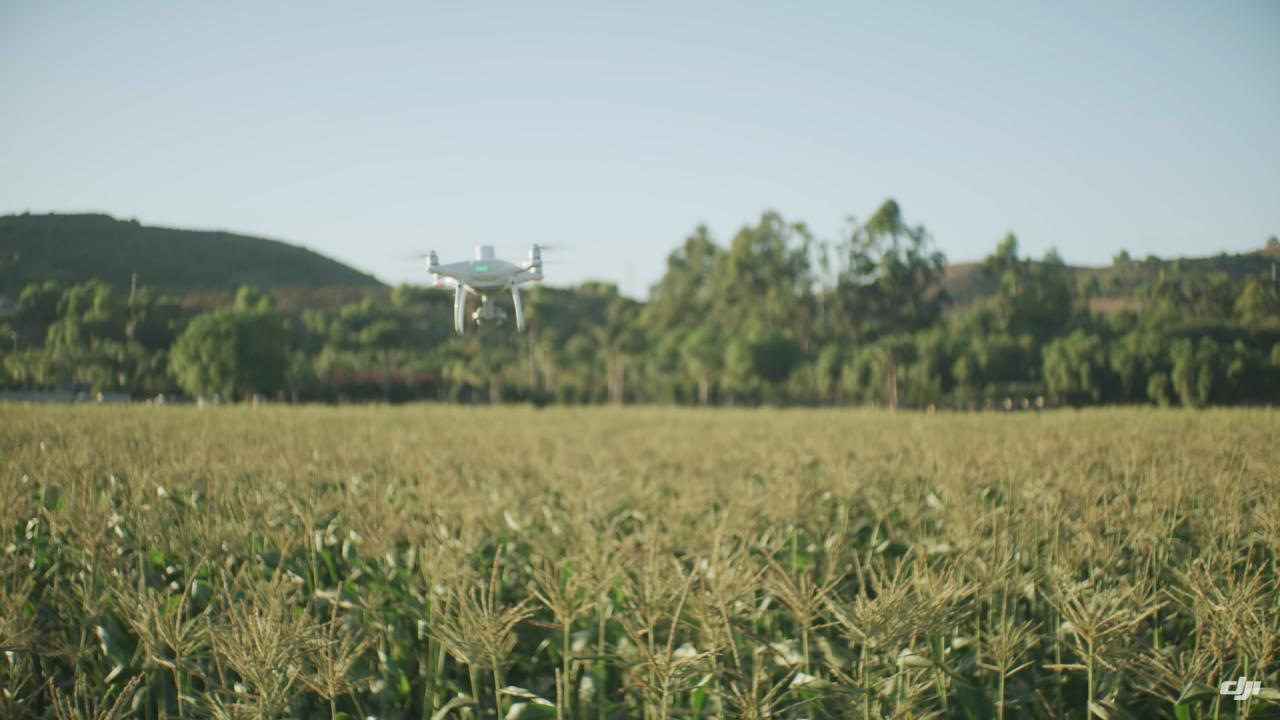Drone: (385, 225, 589, 350)
